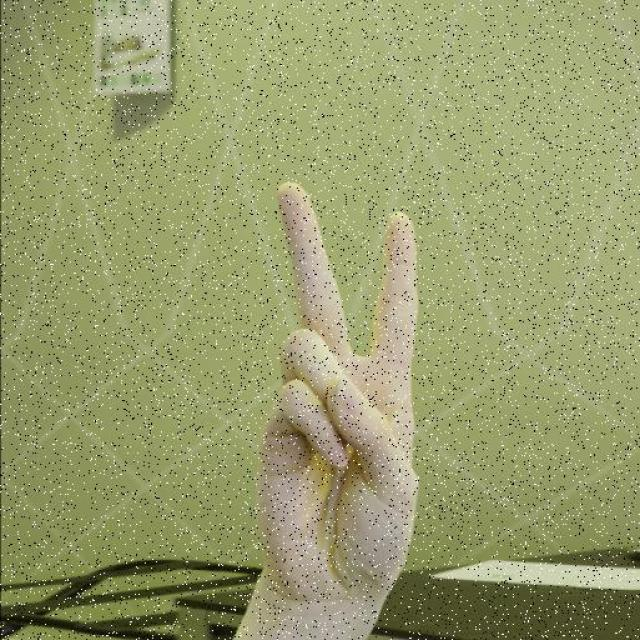V: (249, 176, 423, 608)
